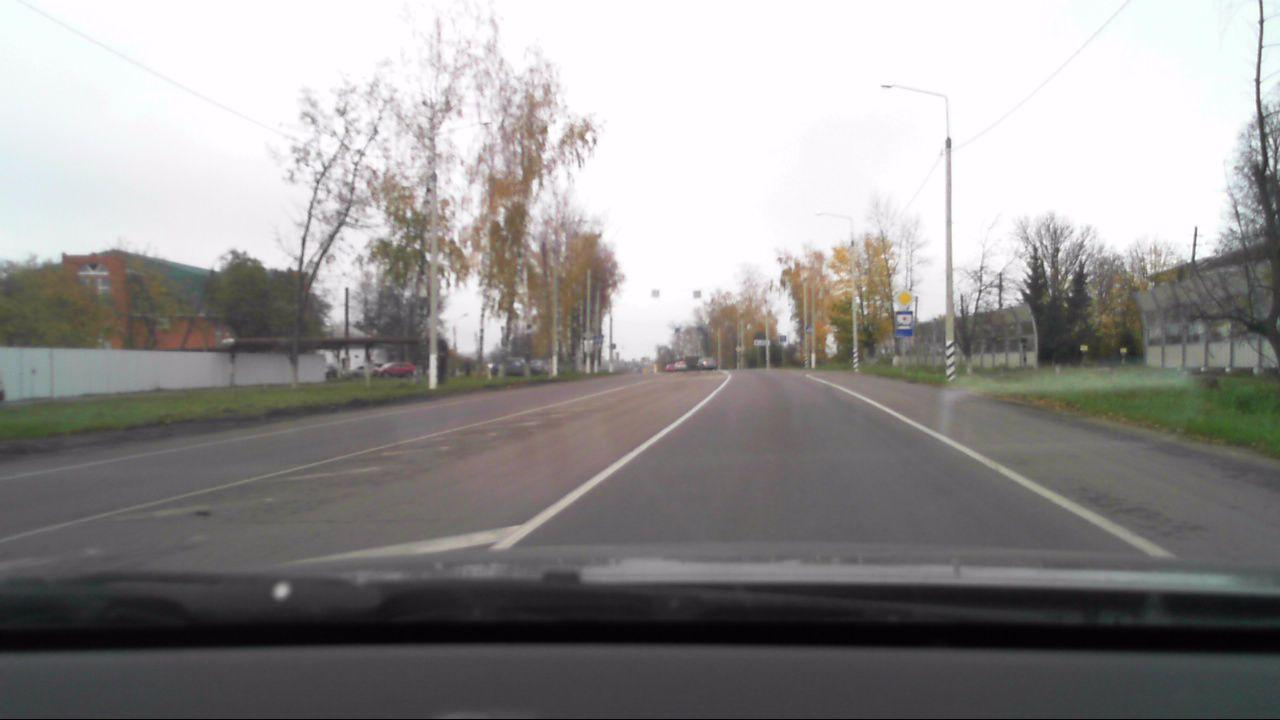2_1: (894, 288, 915, 309)
7_2: (894, 312, 913, 337)
